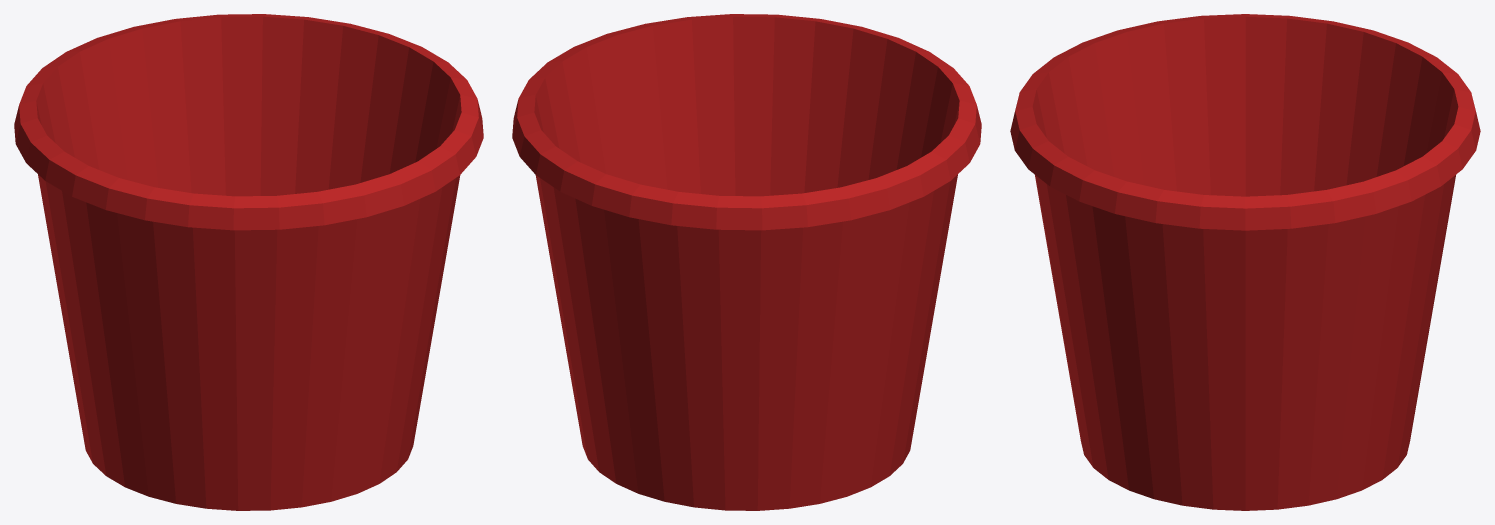
The model's file is bucket.obj.
3 renders of one model, left to right at view 1: azimuth 30°, elevation 25°; view 2: azimuth 150°, elevation 25°; view 3: azimuth 270°, elevation 25°, orthographic.
Visible parts, largest first — view 1: 円柱; view 2: 円柱; view 3: 円柱.
Boxes of the visible parts, <box> form: 円柱: <box>14,14,483,510</box>; 円柱: <box>512,14,981,510</box>; 円柱: <box>1010,14,1480,510</box>.
Bounding box in the file's own units: 1 × 0.8 × 1.
1 material, 1 textured.
